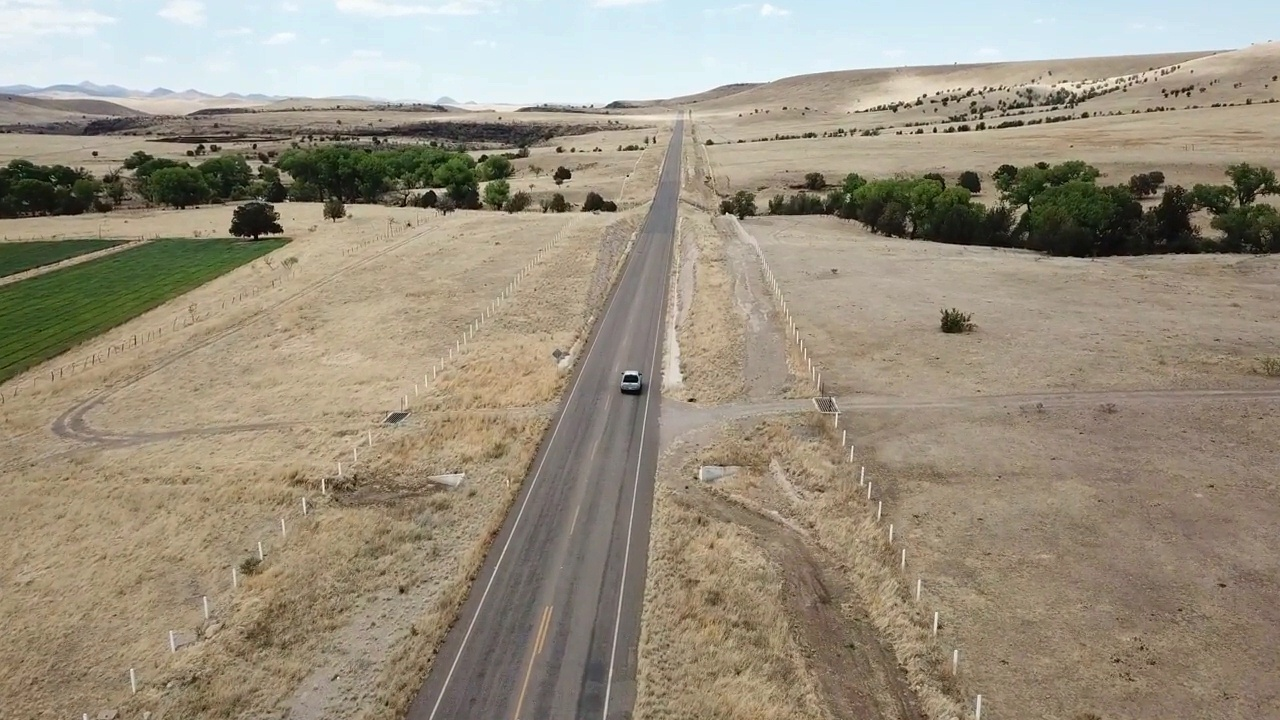araba: (619, 367, 644, 393)
